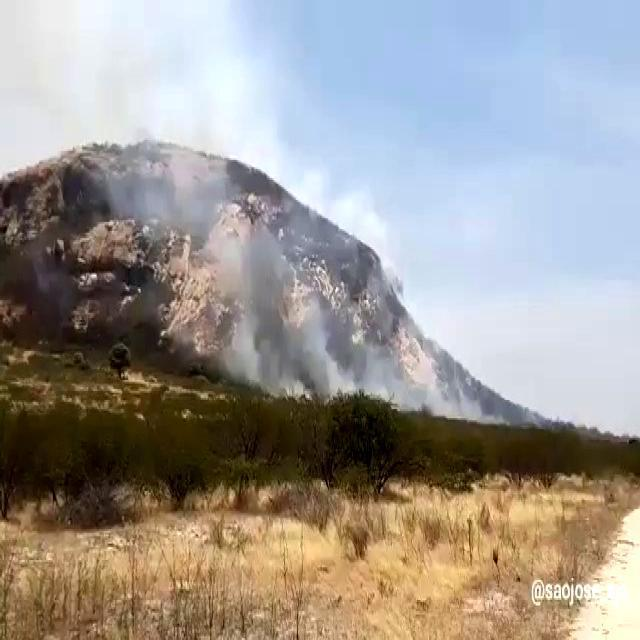Smoke: (316, 293, 454, 423)
